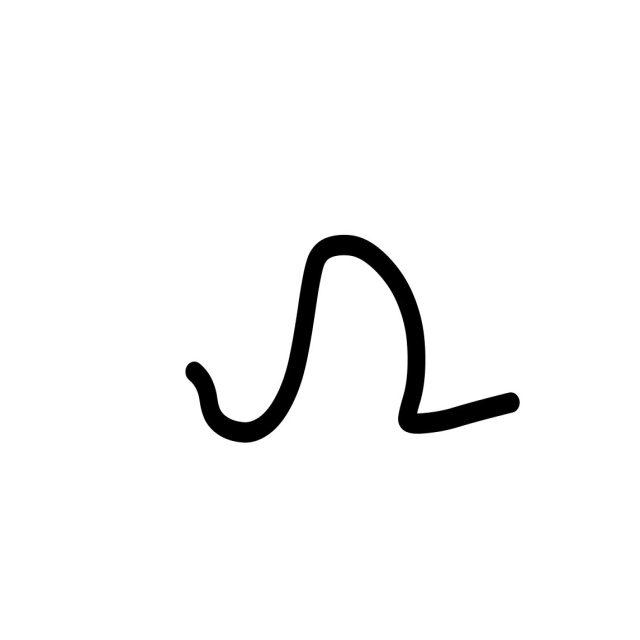ohms: (152, 162, 585, 505)
